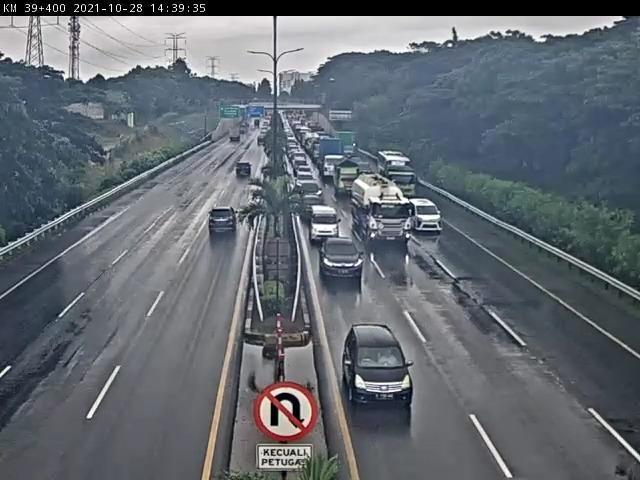bus: (382, 153, 418, 194)
car: (345, 325, 418, 403), (313, 233, 361, 271), (203, 202, 244, 244), (303, 201, 352, 235), (410, 199, 446, 231), (290, 173, 325, 198), (228, 159, 255, 185)
truck: (349, 175, 409, 245), (330, 162, 365, 201)
